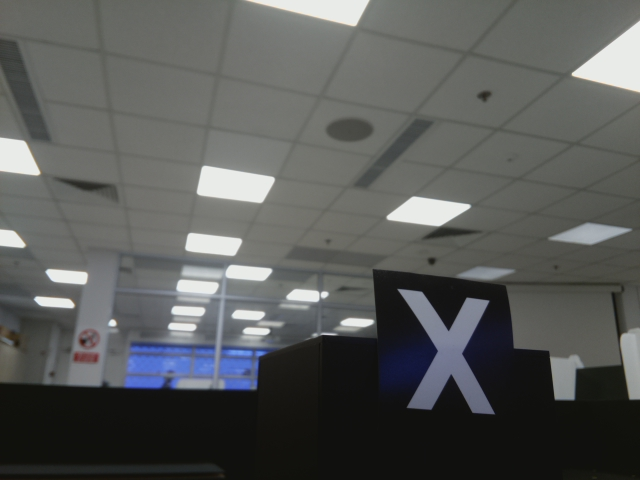x: (391, 279, 505, 421)
